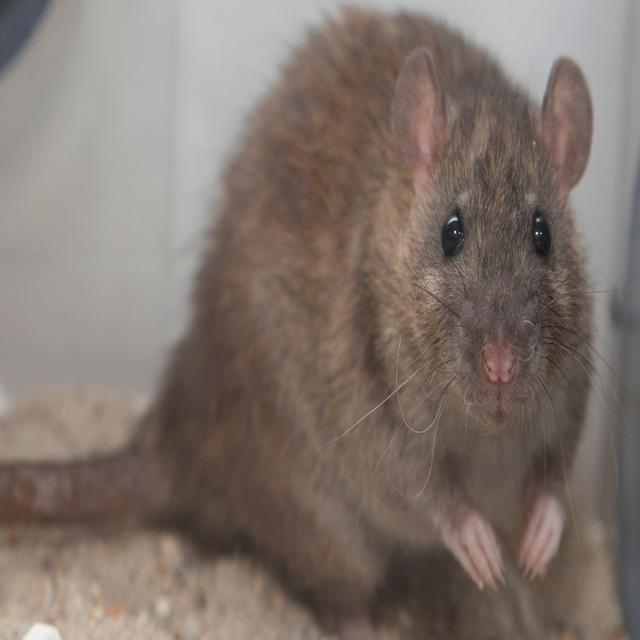rat: (0, 8, 593, 609)
